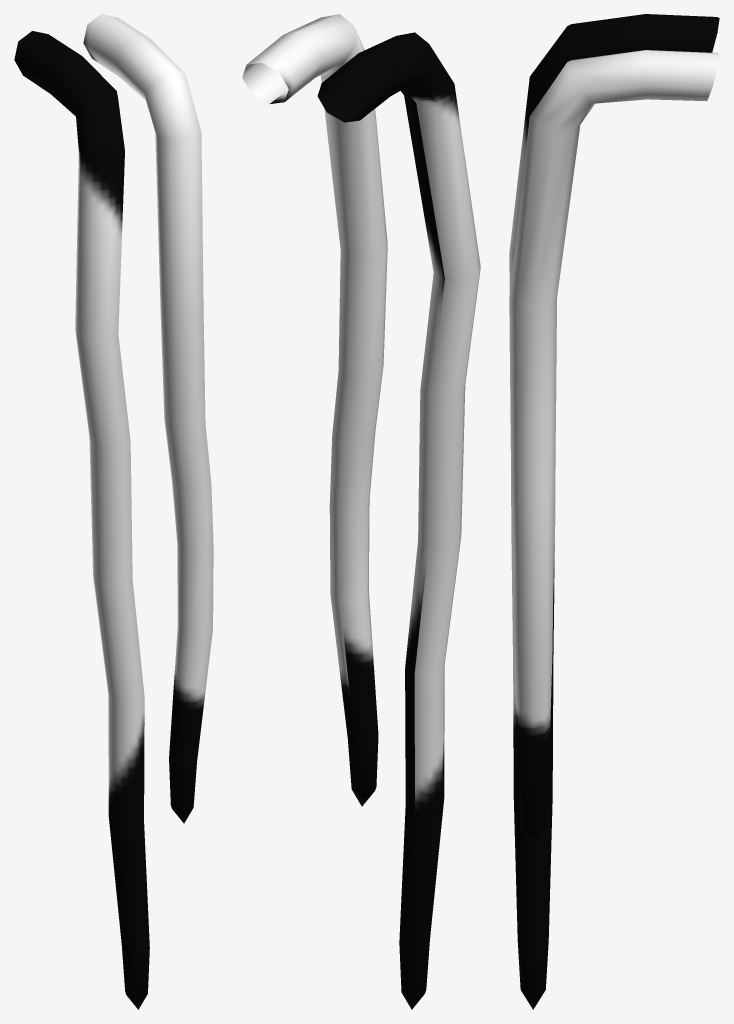
Rendered from middle vine.FBX.
3 views of the same model, side by side, from view 1: azimuth 30°, elevation 25°; view 2: azimuth 150°, elevation 25°; view 3: azimuth 270°, elevation 25° (orthographic). The views are drawn at different scales.
Parts seen in each view (by area): view 1: Object050; view 2: Object050; view 3: Object050.
Part boxes in pixels (bbox=[...]): Object050: bbox=[14, 14, 213, 1009]; Object050: bbox=[242, 14, 480, 1009]; Object050: bbox=[509, 14, 719, 1009].
Bounding box in the file's own units: 32 × 210 × 40.64.
